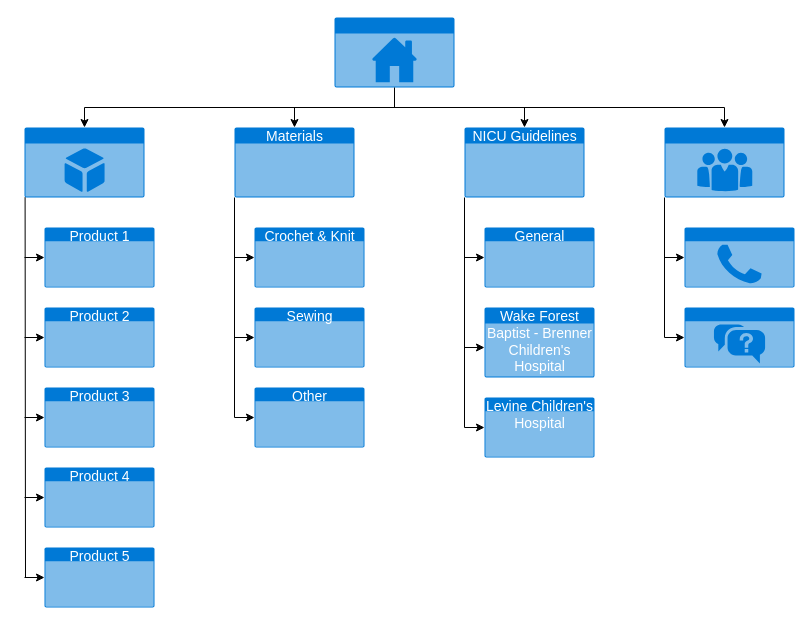
Some shapes in this 812 by 624 pixel diagram are drawn without their labels. Each missing label, with the box of its shape:
About us: (664, 127, 784, 197)
Contact us: (684, 227, 794, 287)
FAQ: (684, 307, 794, 367)
Home: (334, 17, 454, 87)
Projects: (24, 127, 144, 197)
